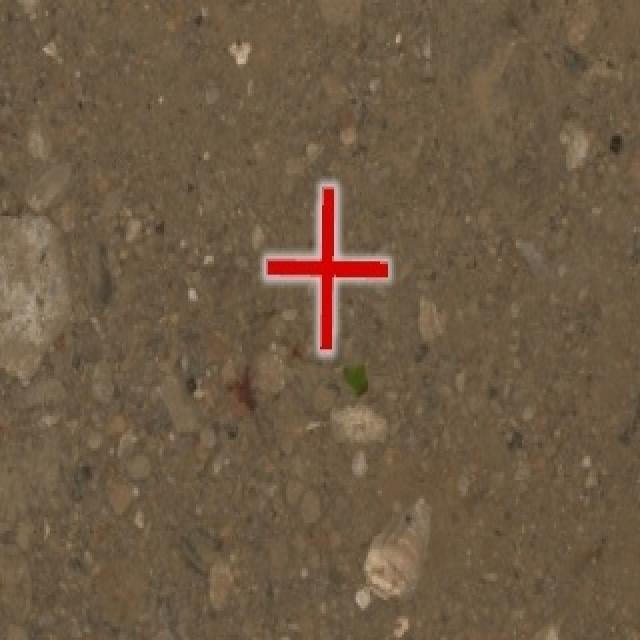x_marker: (265, 185, 387, 351)
